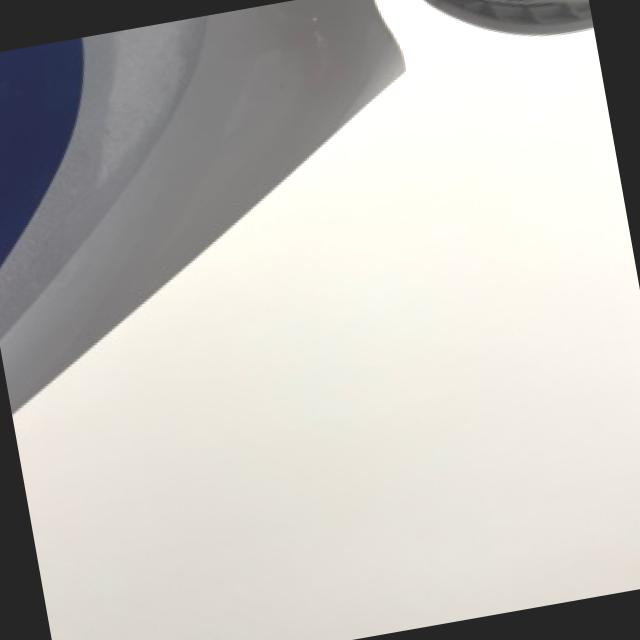healthy: (12, 0, 640, 640), (0, 0, 399, 407), (432, 0, 590, 33)
